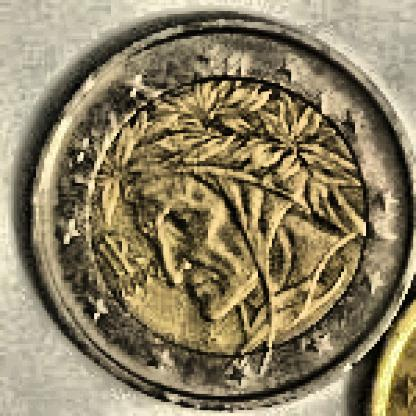coin: (22, 17, 413, 413)
